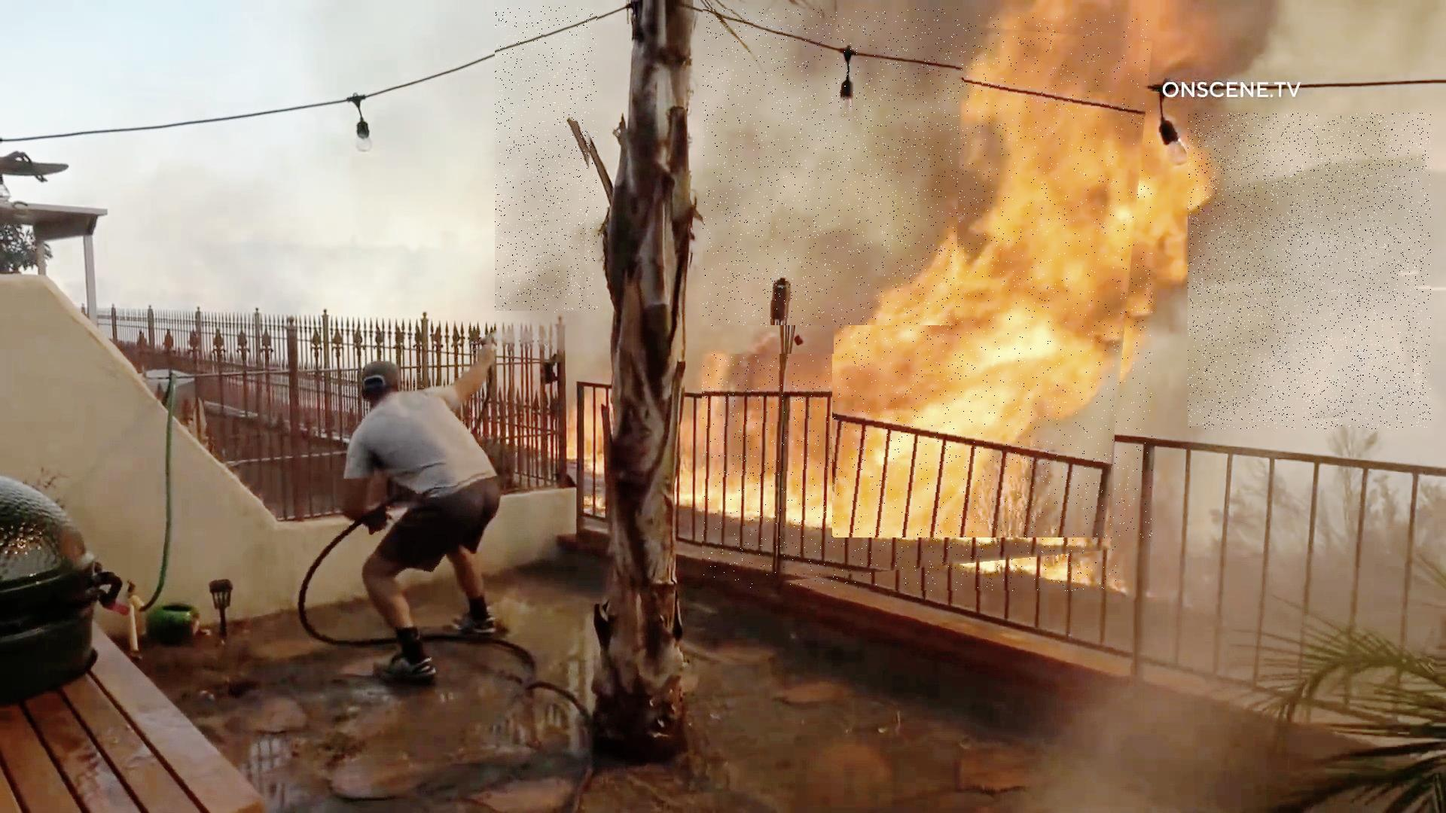fire: (834, 15, 1152, 538), (703, 354, 1117, 592)
smoke: (703, 10, 964, 327), (1188, 113, 1432, 430), (495, 7, 597, 313)
